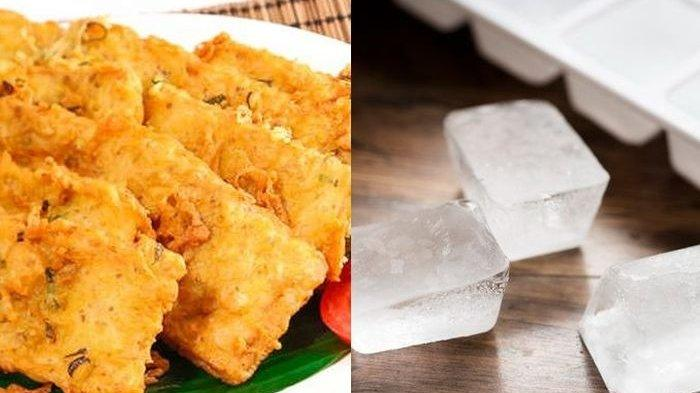Tempe: (142, 136, 295, 382), (1, 202, 155, 378)
